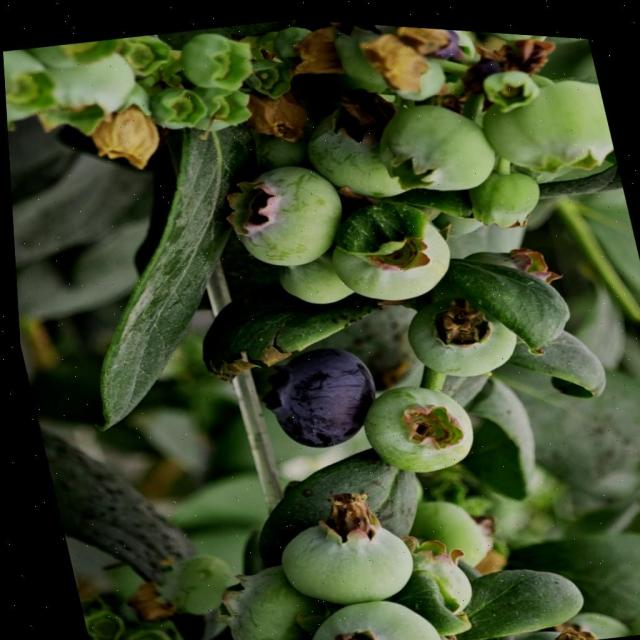RipeBlueBerry: (250, 333, 384, 457)
UnripeBlueBerry: (263, 493, 417, 616), (213, 150, 354, 276), (472, 61, 618, 181), (368, 84, 500, 200), (320, 202, 458, 309), (350, 368, 480, 479), (396, 278, 522, 382)
